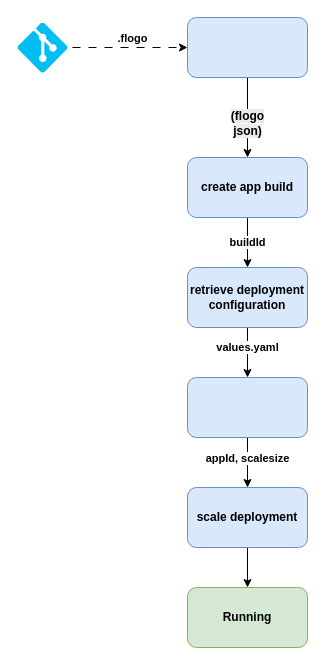
Image size: 325x665. Some labels were removed from this diagram. The shapes that lost their labels are listed below. From the top down, each one's box as (x1, y1, x2, y2) in pixels, then its label:
(186, 16, 308, 78): Retrieve flogo app (flogo json)
(186, 376, 308, 438): create release
